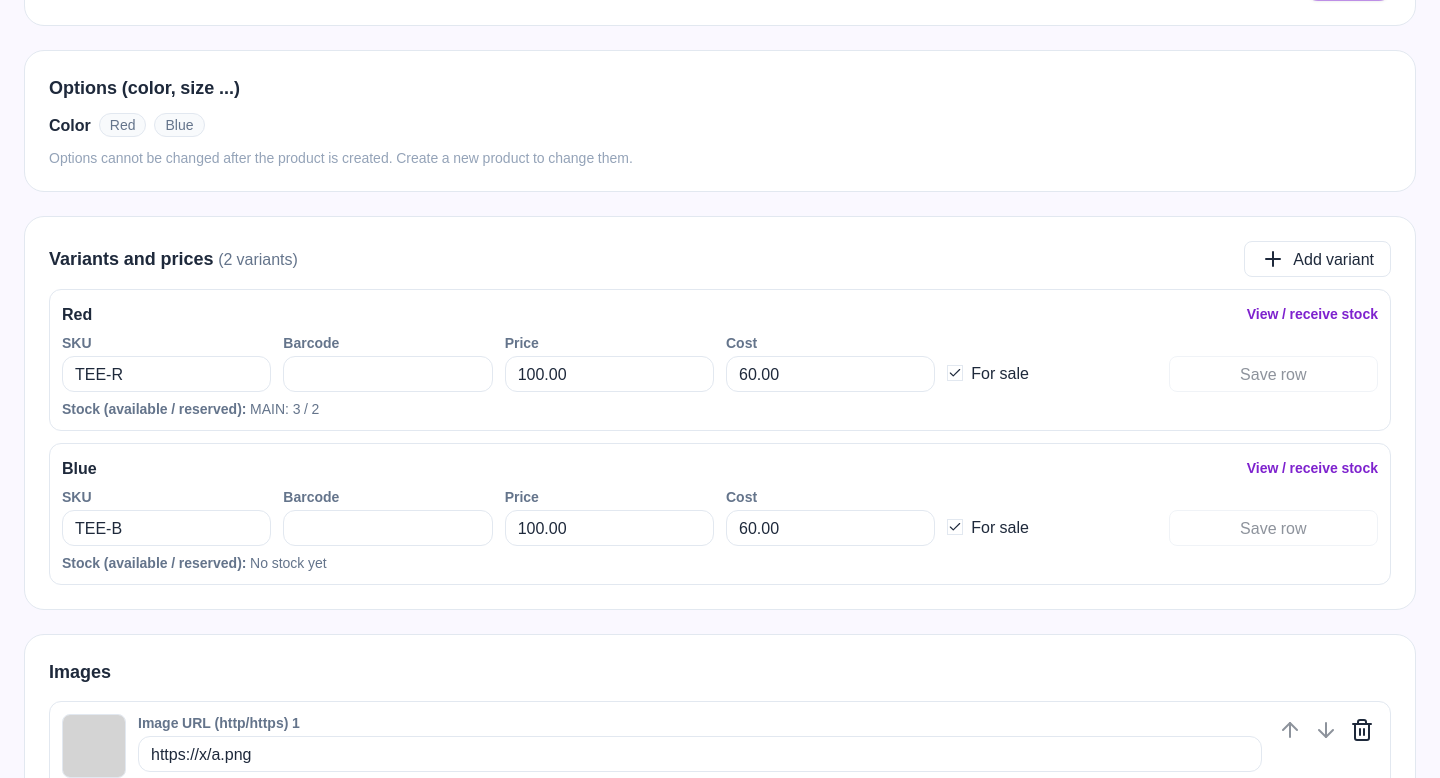
Test: ProductDetail: variants › PATCHes only the changed price of that variant and resets the row to the server's normalised value
The image size is (1440, 778).
(page scrolled)
Expected: the button with aria-label "Save row Red" is disabled, x1=1169 y1=356 x2=1378 y2=392
Replace the text in the field named "Price Red" with "120.5". click: (609, 374)
box: x1=505 y1=356 x2=714 y2=392
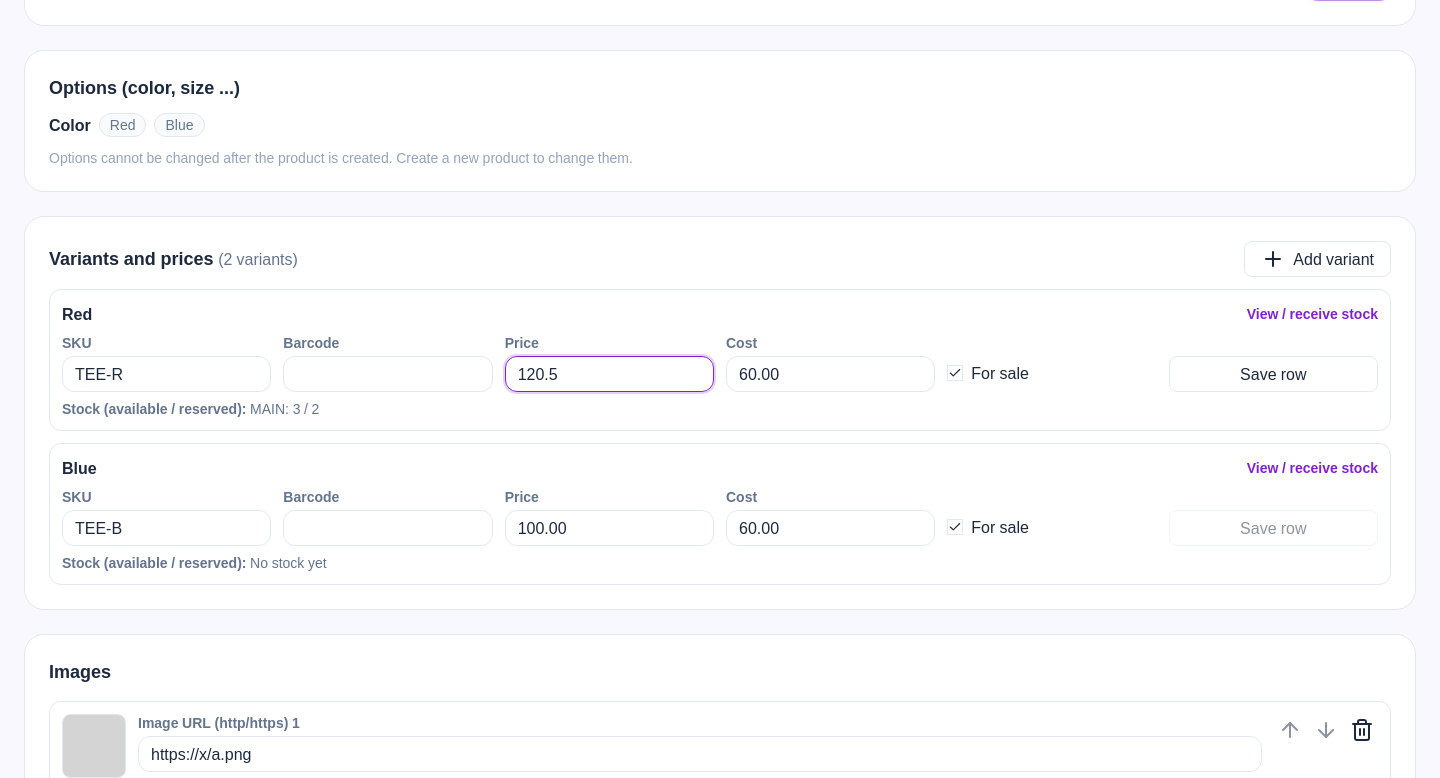
Click the button with aria-label "Save row Red". click: click(1273, 374)
box: x1=1169 y1=356 x2=1378 y2=392
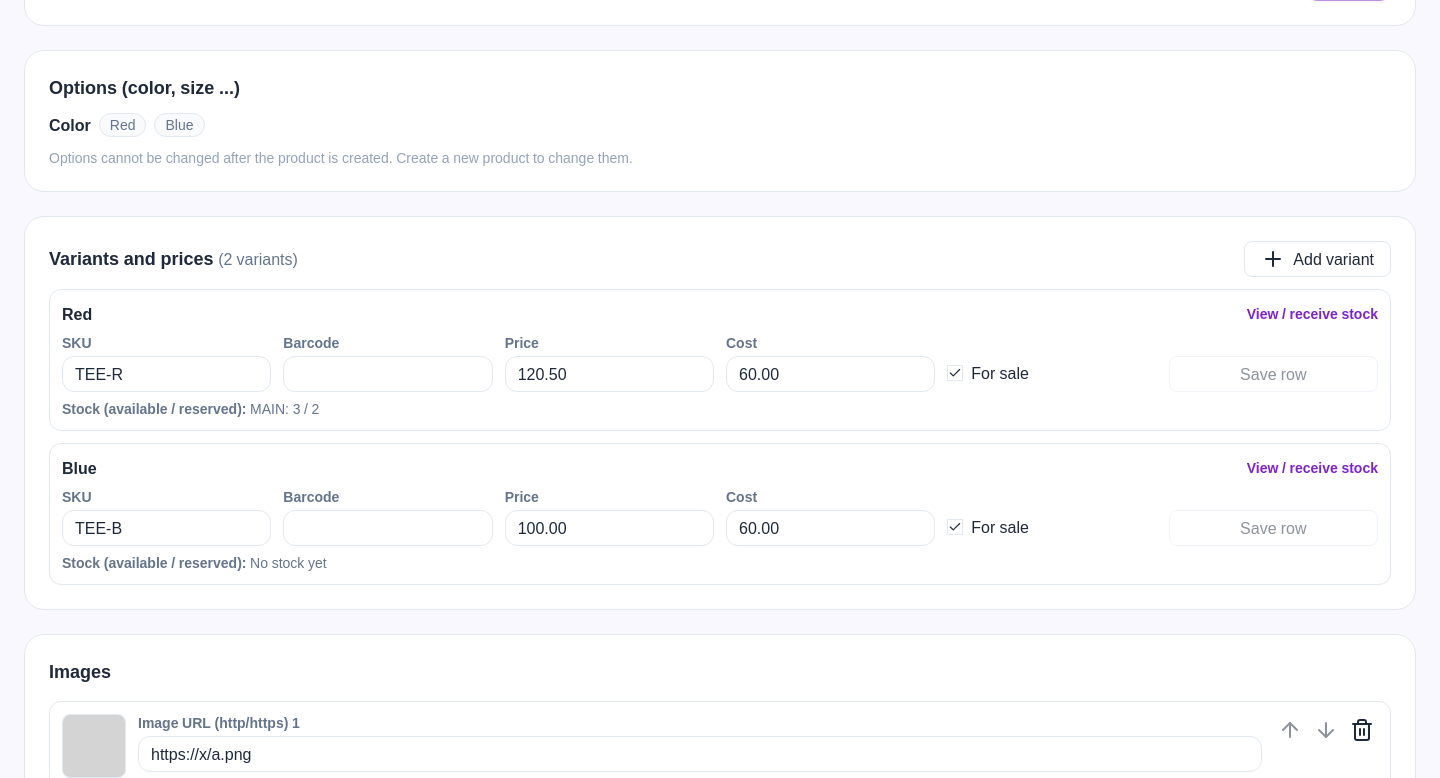
Now the field named "Price Red" holds "120.50", box x1=505 y1=356 x2=714 y2=392
Now the button with aria-label "Save row Red" is disabled, box x1=1169 y1=356 x2=1378 y2=392
